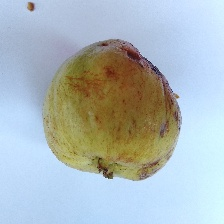guava: (9, 18, 210, 200)
